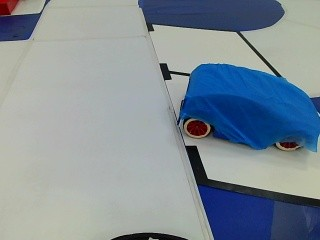car: (172, 56, 318, 153)
